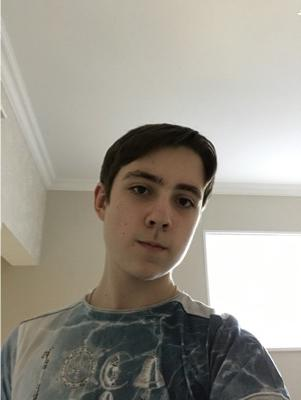without_mask: (104, 171, 205, 282)
